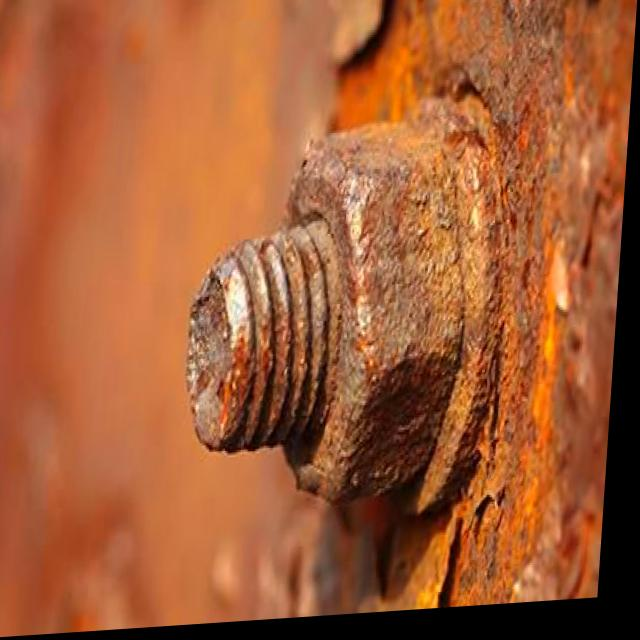Rusty bolt: (224, 125, 489, 520)
